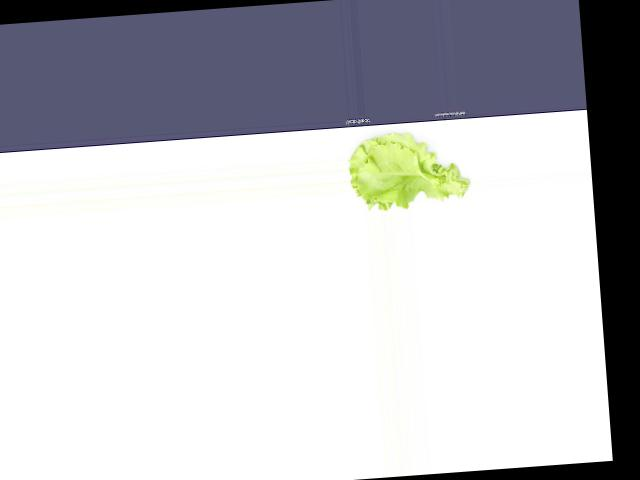lettuce: (346, 121, 469, 214)
